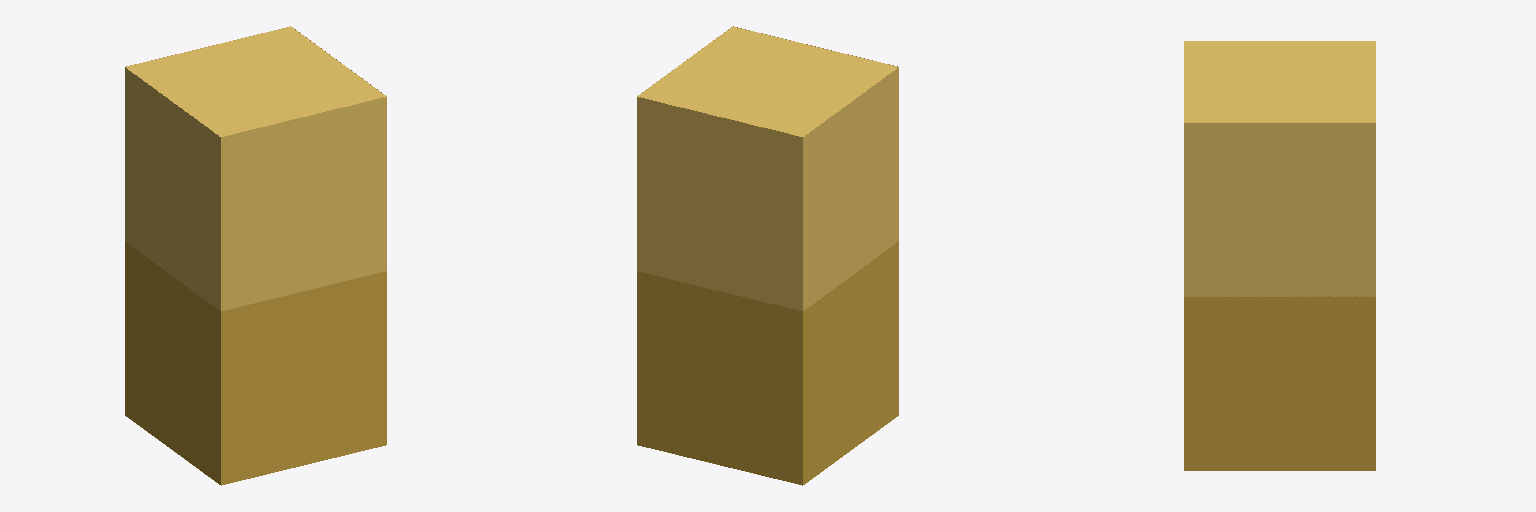
3 views of the same model, side by side, from view 1: azimuth 30°, elevation 25°; view 2: azimuth 150°, elevation 25°; view 3: azimuth 270°, elevation 25° (orthographic).
Visible parts, largest first — view 1: MirageCloneLeg; view 2: MirageCloneLeg; view 3: MirageCloneLeg.
Part boxes in pixels (x1,y1,x2,y2): MirageCloneLeg: (125, 26, 386, 485); MirageCloneLeg: (637, 26, 898, 485); MirageCloneLeg: (1184, 41, 1375, 470).
Bounding box in the file's own units: 1 × 2 × 1.
1 materials, 1 textured.